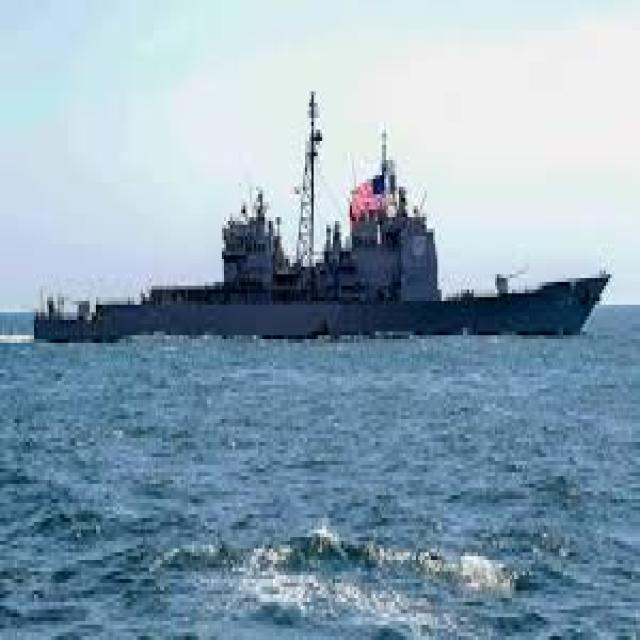navalvessels: (38, 50, 616, 364)
